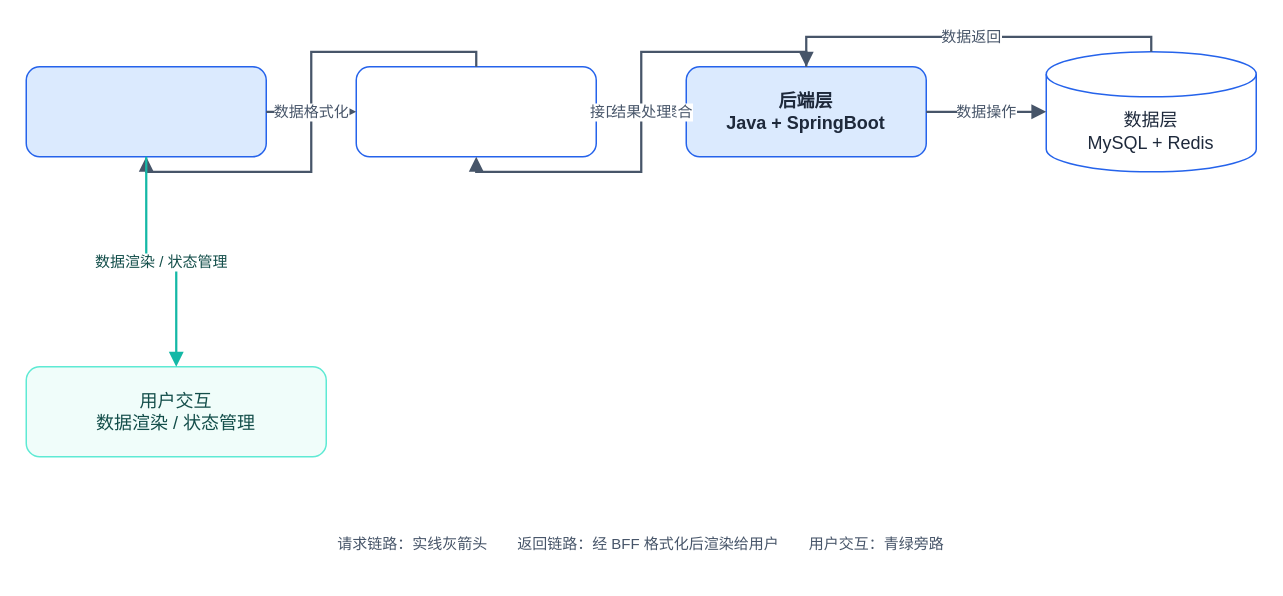
Some shapes in this 1283 by 596 pixel diagram are drawn without their labels. The shapes that lost their labels are listed below. From the top down, each one's centre as x and y in pixels, then its label:
At [145,111]: "前端层 Vue3 + Nuxt.js".
At [475,111]: "BFF 层 Egg.js / Express".
